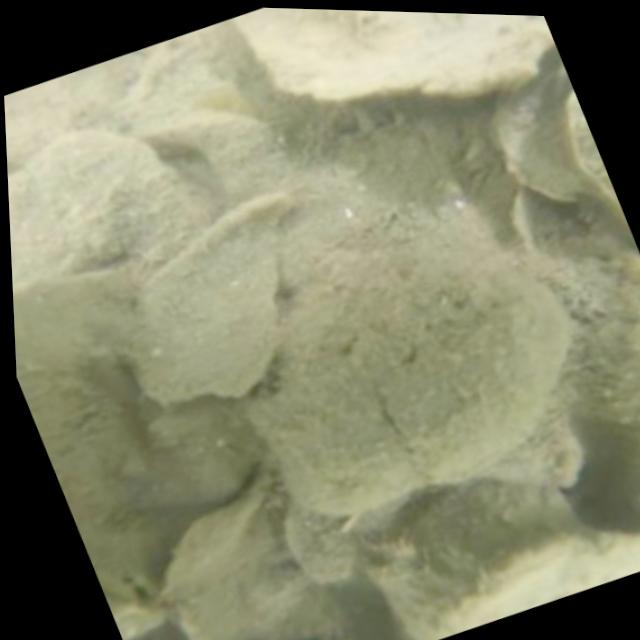Oyster-Indeterminate: (245, 246, 572, 512), (154, 470, 379, 640), (365, 485, 597, 640), (131, 192, 295, 401), (8, 130, 213, 289), (224, 8, 554, 103), (424, 527, 640, 640), (493, 44, 603, 199), (566, 91, 621, 210)
